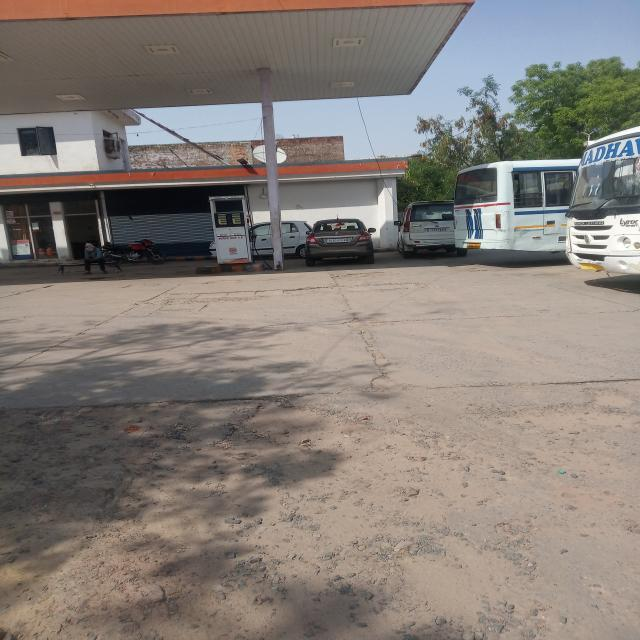Bus: (442, 156, 566, 277), (577, 122, 640, 312)
